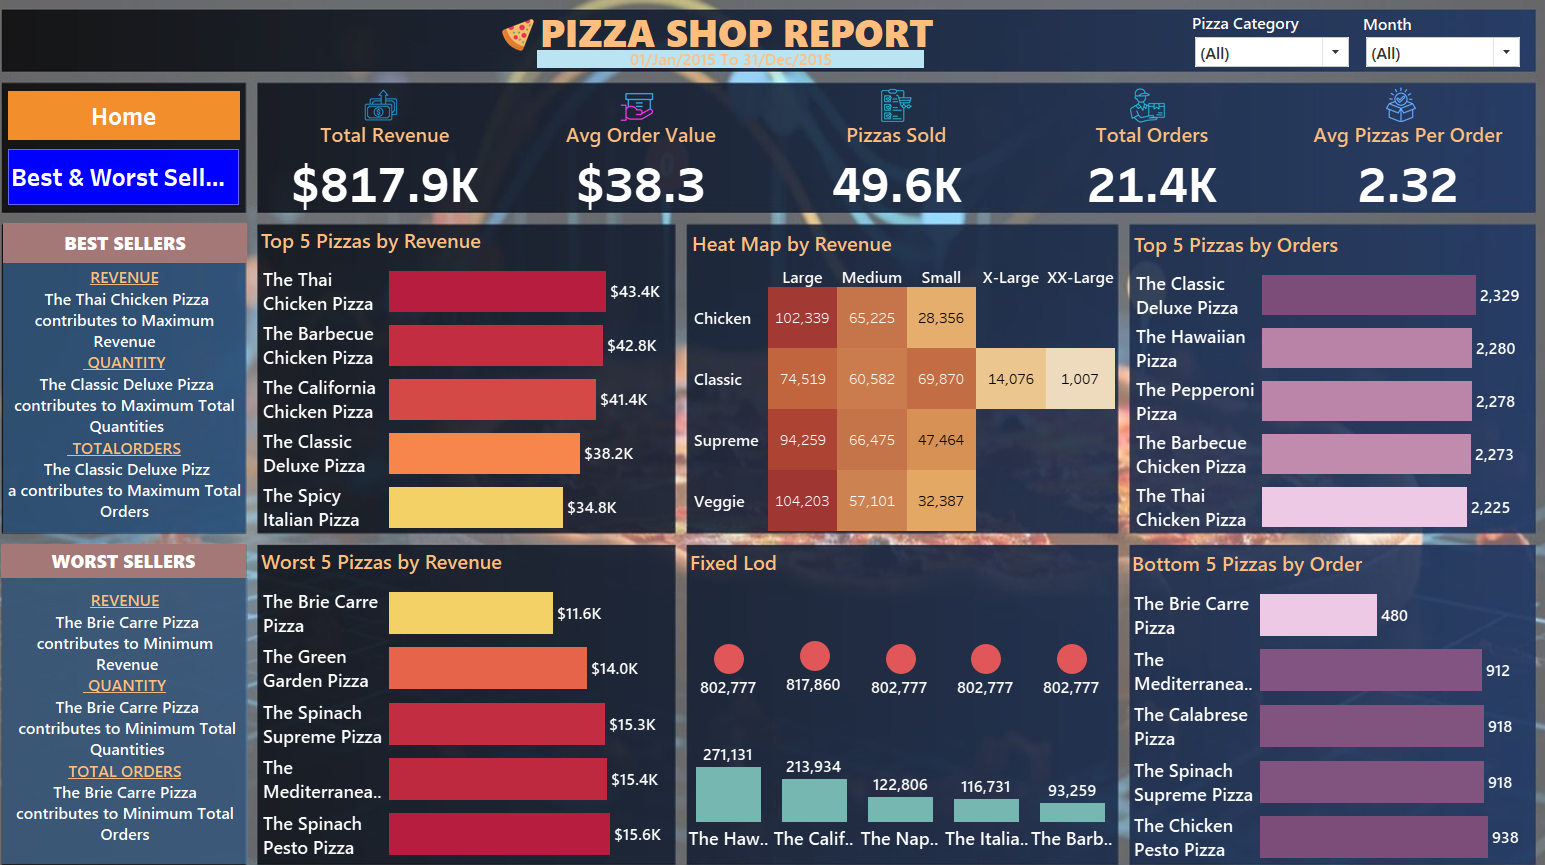

The dashboard page shown, as its layout file describes it:
{"tool":"tableau","page":{"name":"B & W SELLERS","canvas":[1600,900],"ordinal":0},"visuals":[{"type":"image","param":"C:/Users/AJAY BANGAR/Downloads/drive-download-20240827T113139Z-001/Pizza Tableau","box":[8,8,1584,884]},{"type":"text","box":[566,18,409,51]},{"type":"filter","title":"Date Range","param":"[federated.115mkf80ngbwbw100ufel0gcpnx0].[none:pizza_category:nk]","box":[1222,24,160,57]},{"type":"filter","title":"Top 5 Pizzas by Revenue","param":"[federated.115mkf80ngbwbw100ufel0gcpnx0].[mn:order_date:ok]","box":[1393,25,160,56]},{"type":"image","param":"C:/Users/AJAY BANGAR/Downloads/drive-download-20240827T113139Z-001/Pizza Sales I","box":[526,30,43,33]},{"type":"worksheet","title":"Date Range","mark":"Automatic","box":[567,62,387,18]},{"type":"image","param":"C:/Users/AJAY BANGAR/Downloads/drive-download-20240827T113139Z-001/Pizza Sales I","box":[375,98,71,37]},{"type":"image","param":"C:/Users/AJAY BANGAR/Downloads/drive-download-20240827T113139Z-001/Pizza Sales I","box":[909,99,34,36]},{"type":"image","param":"C:/Users/AJAY BANGAR/Downloads/drive-download-20240827T113139Z-001/Pizza Sales I","box":[1159,99,36,37]},{"type":"image","param":"C:/Users/AJAY BANGAR/Downloads/drive-download-20240827T113139Z-001/Pizza Sales I","box":[1411,99,39,35]},{"type":"image","param":"C:/Users/AJAY BANGAR/Downloads/drive-download-20240827T113139Z-001/Pizza Sales I","box":[645,100,44,37]},{"type":"dashboard-object","box":[38,103,232,49]},{"type":"worksheet","title":"KPI Banner","mark":"Automatic","box":[287,130,1279,95]},{"type":"dashboard-object","box":[38,161,231,56]},{"type":"worksheet","title":"Top 5 Pizzas by Revenue","mark":"Automatic","rows":["pizza_name"],"cols":["Calculation_289919281631977472"],"box":[287,234,418,312]},{"type":"text","box":[33,235,244,40]},{"type":"worksheet","title":"Heat Map by Revenue","mark":"Square","rows":["pizza_category"],"cols":["pizza_size"],"box":[718,237,427,306]},{"type":"worksheet","title":"Top 5 Pizzas by Orders","mark":"Automatic","rows":["pizza_name"],"cols":["Calculation_289919281632256001"],"box":[1160,238,405,307]},{"type":"text","box":[33,275,243,270]},{"type":"worksheet","title":"Worst 5 Pizzas by Revenue","mark":"Automatic","rows":["pizza_name"],"cols":["Calculation_289919281631977472"],"box":[287,555,419,319]},{"type":"text","box":[31,556,245,34]},{"type":"worksheet","title":"Fixed Lod","mark":"Automatic","rows":["Calculation_289919281631977472","Calculation_1222727354737844227"],"box":[716,556,430,319]},{"type":"worksheet","title":"Bottom 5 Pizzas by Order","mark":"Automatic","rows":["pizza_name"],"cols":["Calculation_289919281632256001"],"box":[1158,557,407,320]},{"type":"text","box":[32,590,246,286]}]}

Visuals, with their boxes in screenshot pixels (x1, y1, x2, y2), scaled from the page's 1600x900 canvas onto the 1545x865 screenshot:
image: select_region(8, 8, 1537, 857)
text: select_region(547, 17, 941, 66)
"Date Range" filter: select_region(1180, 23, 1334, 78)
"Top 5 Pizzas by Revenue" filter: select_region(1345, 24, 1500, 78)
image: select_region(508, 29, 549, 61)
"Date Range" worksheet: select_region(548, 60, 921, 77)
image: select_region(362, 94, 431, 130)
image: select_region(878, 95, 911, 130)
image: select_region(1119, 95, 1154, 131)
image: select_region(1362, 95, 1400, 129)
image: select_region(623, 96, 665, 132)
dashboard-object: select_region(37, 99, 261, 146)
"KPI Banner" worksheet: select_region(277, 125, 1512, 216)
dashboard-object: select_region(37, 155, 260, 209)
"Top 5 Pizzas by Revenue" worksheet: select_region(277, 225, 681, 525)
text: select_region(32, 226, 267, 264)
"Heat Map by Revenue" worksheet (Square marks): select_region(693, 228, 1106, 522)
"Top 5 Pizzas by Orders" worksheet: select_region(1120, 229, 1511, 524)
text: select_region(32, 264, 267, 524)
"Worst 5 Pizzas by Revenue" worksheet: select_region(277, 533, 682, 840)
text: select_region(30, 534, 267, 567)
"Fixed Lod" worksheet: select_region(691, 534, 1107, 841)
"Bottom 5 Pizzas by Order" worksheet: select_region(1118, 535, 1511, 843)
text: select_region(31, 567, 268, 842)
